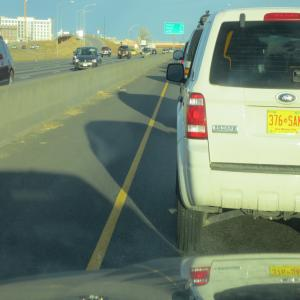Vehicle-registration-plate: (268, 108, 296, 138), (84, 64, 88, 67)
